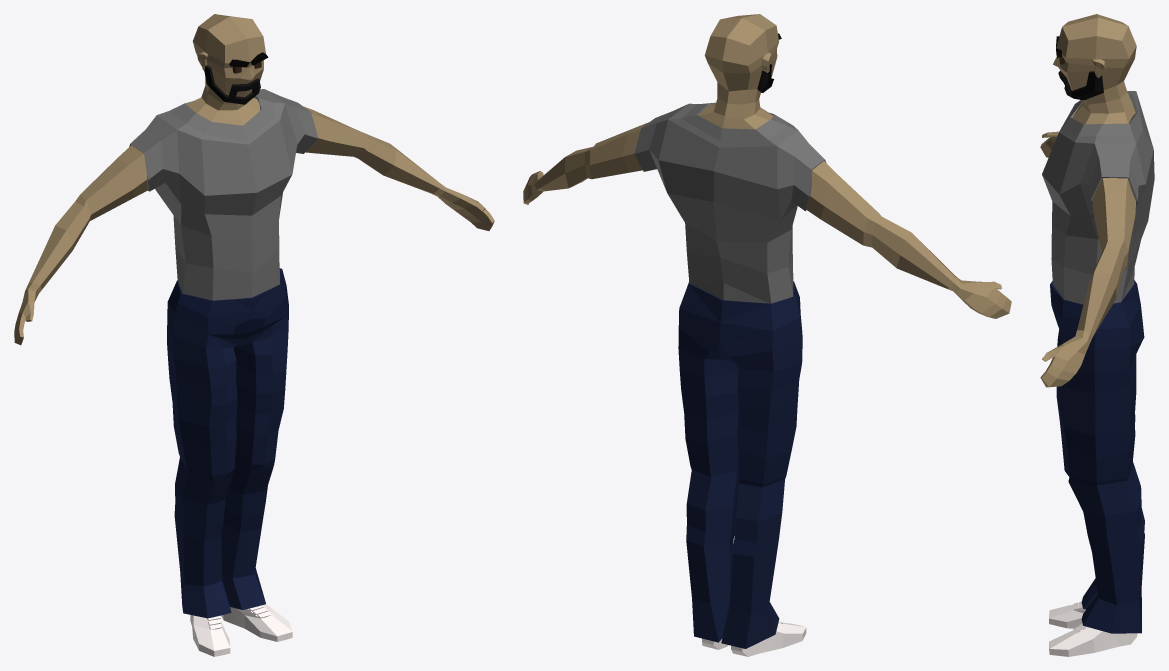
File: Enemy1.fbx
The picture shows the model from 3 angles, left to right: view 1: azimuth 30°, elevation 25°; view 2: azimuth 150°, elevation 25°; view 3: azimuth 270°, elevation 25°; orthographic projection.
Parts seen in each view (by area): view 1: Pants, Shirt, Character, Shoes; view 2: Pants, Shirt, Character, Shoes; view 3: Pants, Character, Shirt, Shoes.
Boxes of the visible parts, left/top/right/bottom form: Pants: left=167, top=268, right=288, bottom=618; Shirt: left=129, top=89, right=318, bottom=300; Character: left=14, top=14, right=494, bottom=345; Shoes: left=190, top=604, right=292, bottom=656; Pants: left=678, top=281, right=802, bottom=648; Shirt: left=634, top=102, right=826, bottom=303; Character: left=523, top=14, right=1011, bottom=318; Shoes: left=702, top=621, right=806, bottom=656; Pants: left=1050, top=280, right=1144, bottom=633; Character: left=1040, top=14, right=1136, bottom=387; Shirt: left=1042, top=91, right=1154, bottom=304; Shoes: left=1049, top=601, right=1137, bottom=656.
Size of the model in its own units: 149 by 182 by 30.57.
